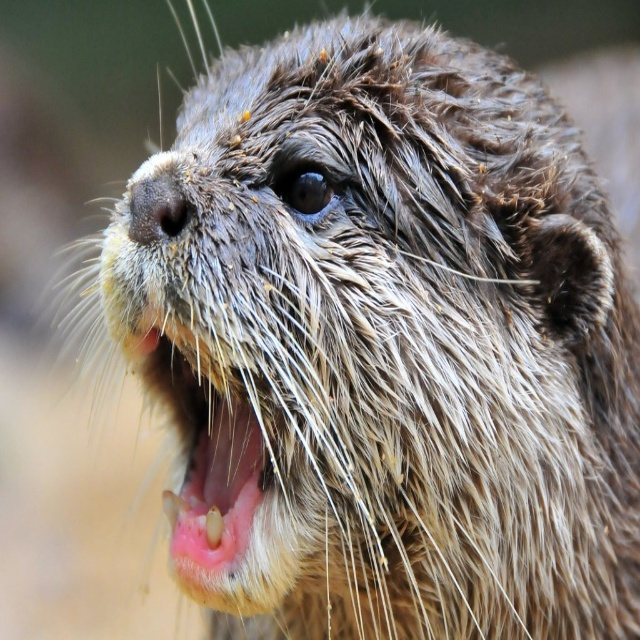Otter: (50, 0, 640, 639)
